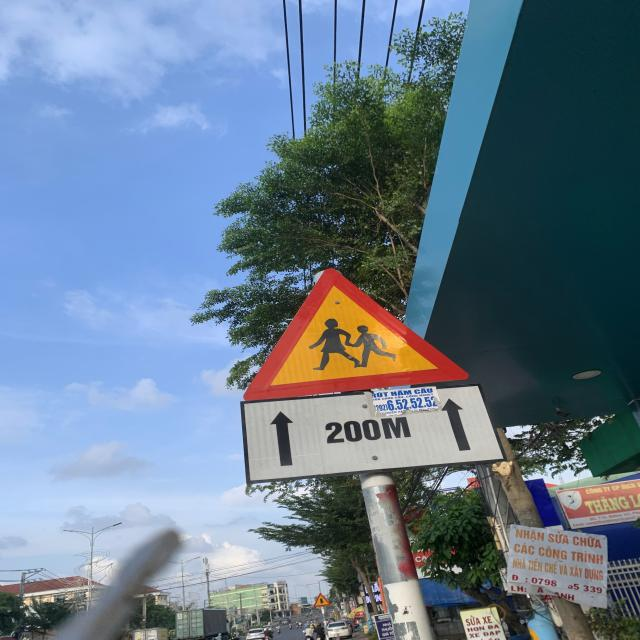Vong_Xuyen: (242, 268, 468, 400)
